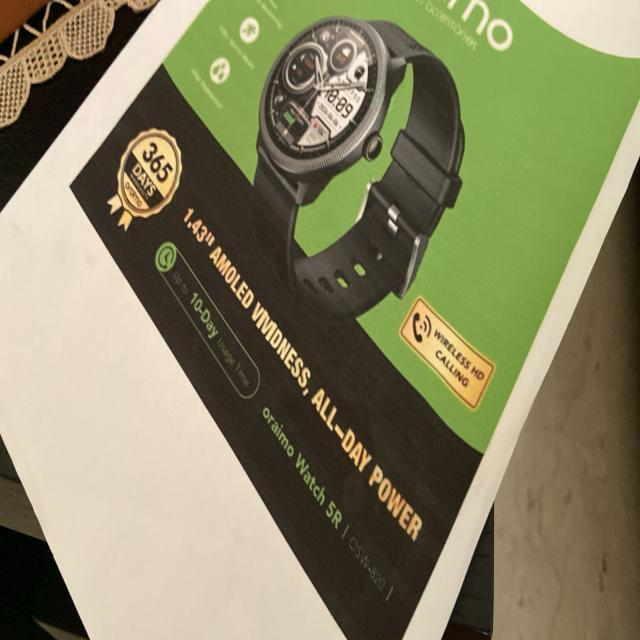Oraimo Watch 5R OSW-820: (258, 404, 398, 612)
